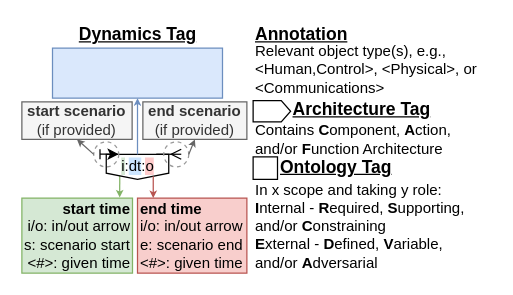
The diagram is 513 pixels wide and 295 high, and some of its shapes have lost their labels. Here are the shapes that lost their labels. From the top down, the centre of each, then its label:
point 136,72: change interval dt: unspecified <#>: given timestep
point 271,110: CAF
point 265,167: ID
